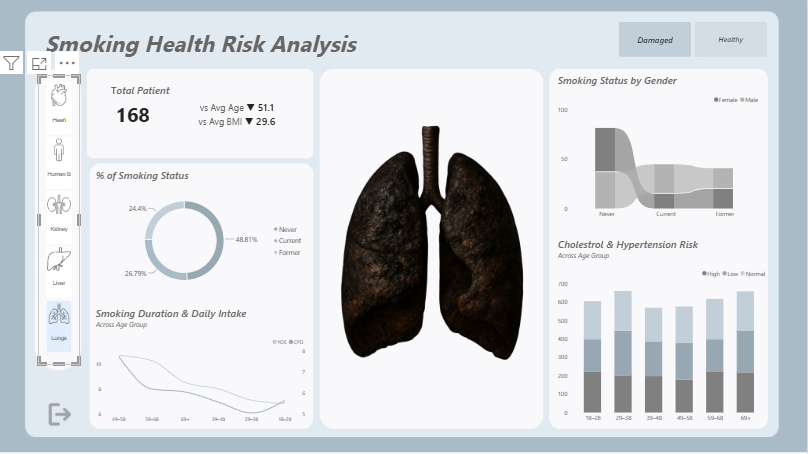

What the dashboard file says about the page in this screenshot:
{"tool":"powerbi","page":{"name":"Smoking Health Risk Analysis","canvas":[1920,1080],"ordinal":0},"visuals":[{"type":"cardVisual","fields":{"Data":["CountNonNull(health_dataset.Patient_ID)"]},"box":[228.6,178.6,497.6,185.7],"z":0},{"type":"textbox","box":[264.3,178.6,283.3,114.3],"z":1000},{"type":"advancedSlicerVisual","fields":{"Values":["condition.Organ_Condition"]},"box":[1473.8,52.4,352.4,83.3],"z":2000},{"type":"ChicletSlicer1448559807354","fields":{"Category":["Organs.Organ"],"Image":["Organs.Icon_URL"]},"box":[90.5,178.6,100,690.5],"z":3000},{"type":"image","box":[764.3,178.6,528.6,831],"z":4000},{"type":"donutChart","title":"% of Smoking Status","fields":{"Category":["health_dataset.Smoking_Status"],"Y":["CountNonNull(health_dataset.Smoking_Status)"]},"box":[211.9,385.7,531,328.6],"z":5000},{"type":"lineChart","title":"Smoking Duration & Daily Intake","fields":{"Category":["health_dataset.Age Group"],"Y":["Avg(health_dataset.Years_of_Smoking)"],"Y2":["Avg(health_dataset.Cigarettes_Per_Day)"]},"box":[211.9,714.3,531,311.9],"z":6000},{"type":"ribbonChart","title":"Smoking Status by Gender","fields":{"Category":["health_dataset.Smoking_Status"],"Series":["health_dataset.Gender"],"Y":["CountNonNull(health_dataset.Patient_ID)"]},"box":[1311.9,159.5,514.3,381],"z":6001},{"type":"columnChart","title":"Cholestrol & Hypertension Risk","fields":{"Category":["health_dataset.Age Group"],"Series":["health_dataset.BP_Risk"],"Y":["Avg(health_dataset.Cholesterol_Level)"]},"box":[1311.9,550,531,476.2],"z":6002},{"type":"textbox","box":[107.1,66.7,819,92.9],"z":6003}]}

Visuals, with their boxes on the page's 1920x1080 design canvas (x1, y1, x2, y2). These are canvas units, not pixel positions in the 808x454 screenshot, which may show the page scaled, cropped or inside an application window:
cardVisual - CountNonNull(health_dataset.Patient_ID): <region>229, 179, 726, 364</region>
textbox: <region>264, 179, 548, 293</region>
advancedSlicerVisual - condition.Organ_Condition: <region>1474, 52, 1826, 136</region>
ChicletSlicer1448559807354 - Organs.Organ x Organs.Icon_URL: <region>90, 179, 190, 869</region>
image: <region>764, 179, 1293, 1010</region>
"% of Smoking Status" donutChart: <region>212, 386, 743, 714</region>
"Smoking Duration & Daily Intake" lineChart: <region>212, 714, 743, 1026</region>
"Smoking Status by Gender" ribbonChart: <region>1312, 160, 1826, 540</region>
"Cholestrol & Hypertension Risk" columnChart: <region>1312, 550, 1843, 1026</region>
textbox: <region>107, 67, 926, 160</region>
